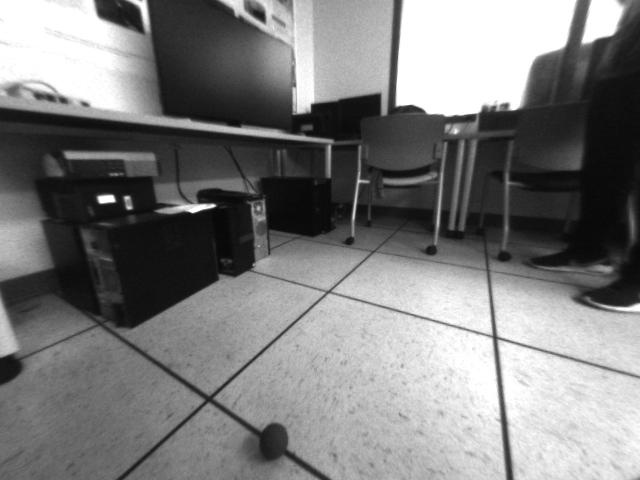dogtoy: (250, 409, 298, 466)
